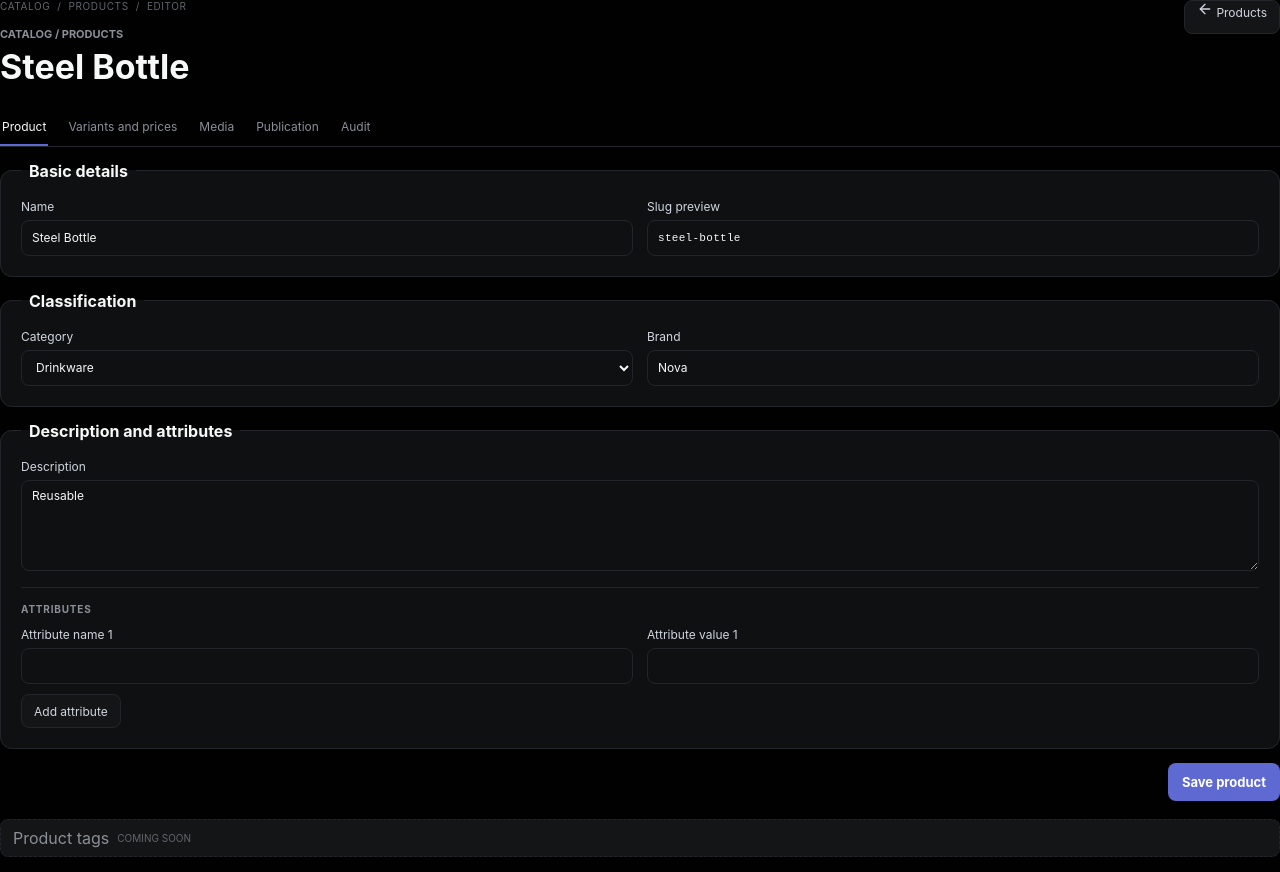
ProductEditorPage › maps CONFLICT without exposing transport details
Expected: the field showing "Steel Bottle" is shown, [21,220,633,256]
Step 1. Click the button "Save product" → (1224, 782), box [1168,763,1279,801]
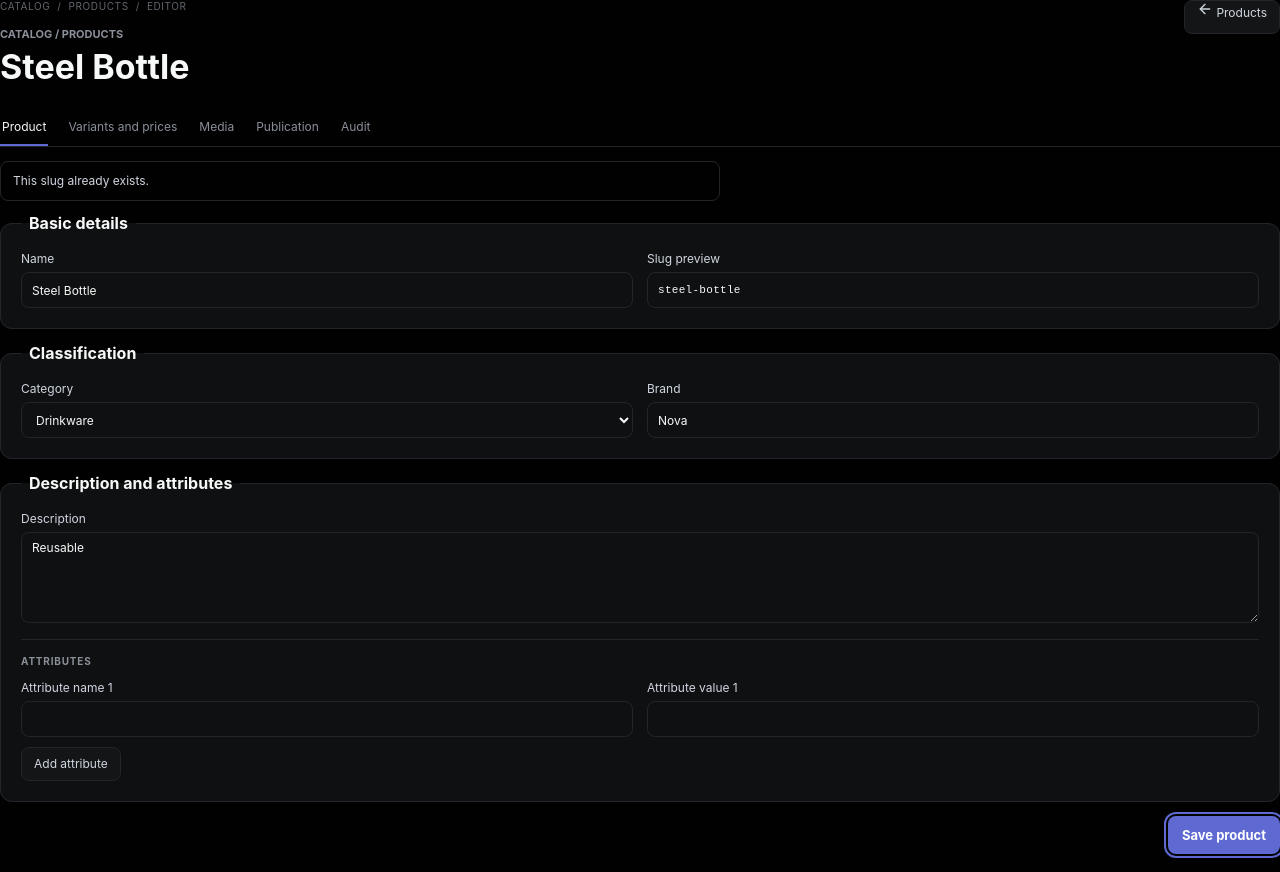
Now the text "This slug already exists." is shown, box [0,161,720,201]
